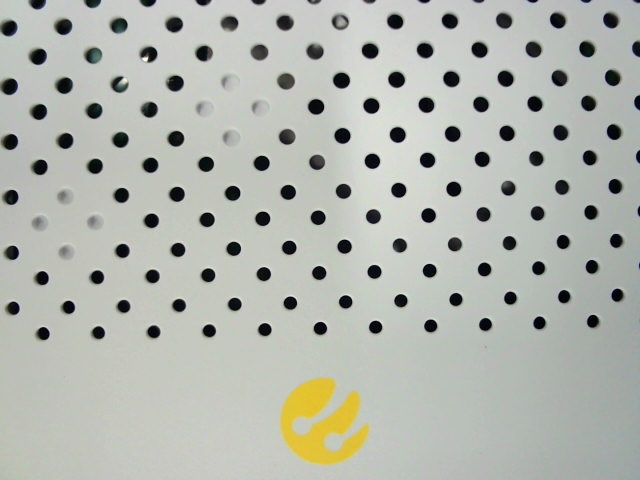AV_H3600Yellow: (270, 367, 381, 468)
